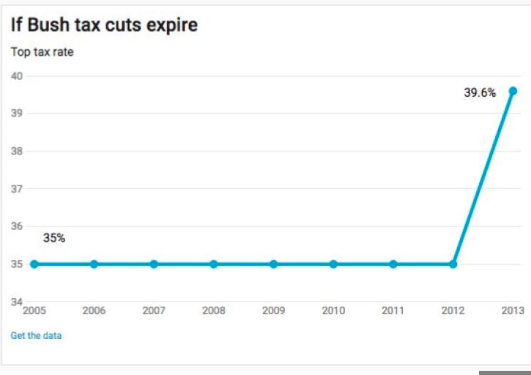S1_AxisNotZero: (5, 9, 531, 351)
